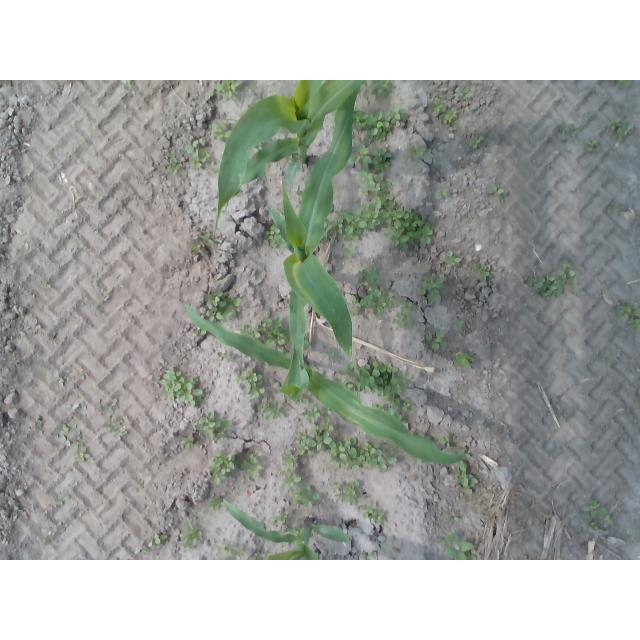Maize: (178, 281, 469, 464), (268, 89, 354, 363), (216, 81, 365, 231), (222, 498, 351, 560)
Weeds: (338, 196, 434, 252), (348, 357, 412, 396), (527, 260, 575, 299), (356, 109, 409, 141), (356, 271, 392, 318), (331, 440, 393, 467), (359, 148, 394, 192), (252, 388, 285, 417), (443, 533, 474, 560), (418, 275, 448, 302), (213, 451, 236, 485), (251, 315, 286, 337), (456, 461, 480, 491), (295, 485, 321, 512), (189, 232, 213, 261), (176, 382, 204, 406), (186, 138, 206, 170), (239, 455, 266, 478), (202, 414, 226, 438), (434, 102, 459, 125), (308, 430, 332, 452), (217, 80, 243, 100), (617, 303, 640, 325), (364, 504, 388, 525), (206, 295, 226, 320), (183, 526, 206, 546), (238, 371, 262, 390), (281, 451, 301, 473), (161, 369, 183, 387), (455, 311, 471, 334), (273, 509, 291, 527), (428, 331, 444, 350), (617, 122, 632, 142), (409, 144, 427, 160), (473, 264, 491, 280), (147, 536, 169, 549), (321, 411, 336, 430), (296, 433, 308, 456), (439, 431, 454, 449), (213, 125, 231, 140), (393, 398, 411, 413), (284, 473, 303, 487), (300, 408, 320, 421), (228, 296, 244, 312), (216, 349, 237, 361), (446, 252, 462, 267), (396, 298, 413, 311), (368, 81, 388, 92), (77, 447, 91, 462), (459, 351, 474, 365), (168, 159, 180, 176), (584, 501, 601, 513), (341, 479, 359, 490), (268, 229, 281, 244), (395, 311, 408, 325), (611, 116, 622, 132), (325, 222, 335, 239), (116, 421, 127, 436), (587, 140, 601, 151), (490, 188, 507, 197), (470, 136, 481, 149), (183, 436, 196, 447), (587, 518, 598, 530), (450, 510, 459, 524), (601, 516, 612, 527), (612, 81, 629, 88), (360, 552, 374, 560), (565, 123, 576, 133), (58, 425, 70, 434), (49, 332, 58, 341), (462, 87, 470, 94), (441, 190, 448, 196)
